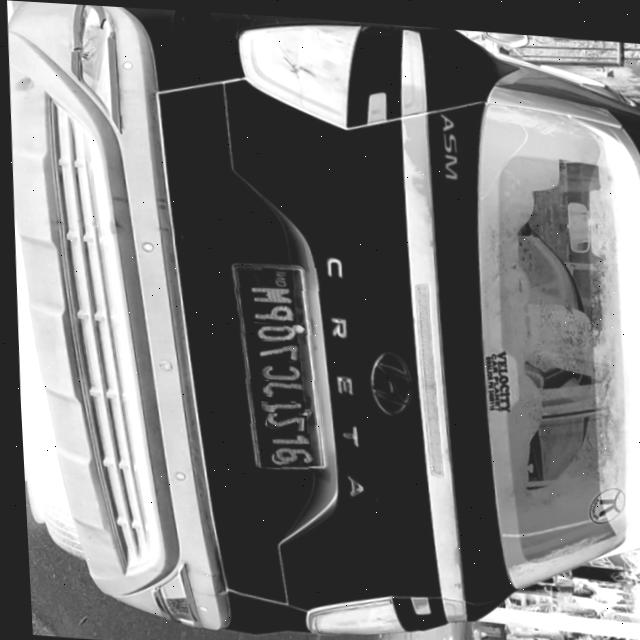0: (250, 319, 291, 338)
1: (261, 427, 305, 448), (258, 396, 300, 409)
2: (261, 409, 302, 431)
6: (266, 443, 307, 462)
7: (250, 337, 295, 358)
C: (256, 356, 296, 379)
IND: (257, 265, 284, 285)
Indian_registered: (230, 263, 316, 466)
J: (259, 375, 298, 394)
M: (245, 281, 288, 303)
P: (247, 297, 291, 320)
